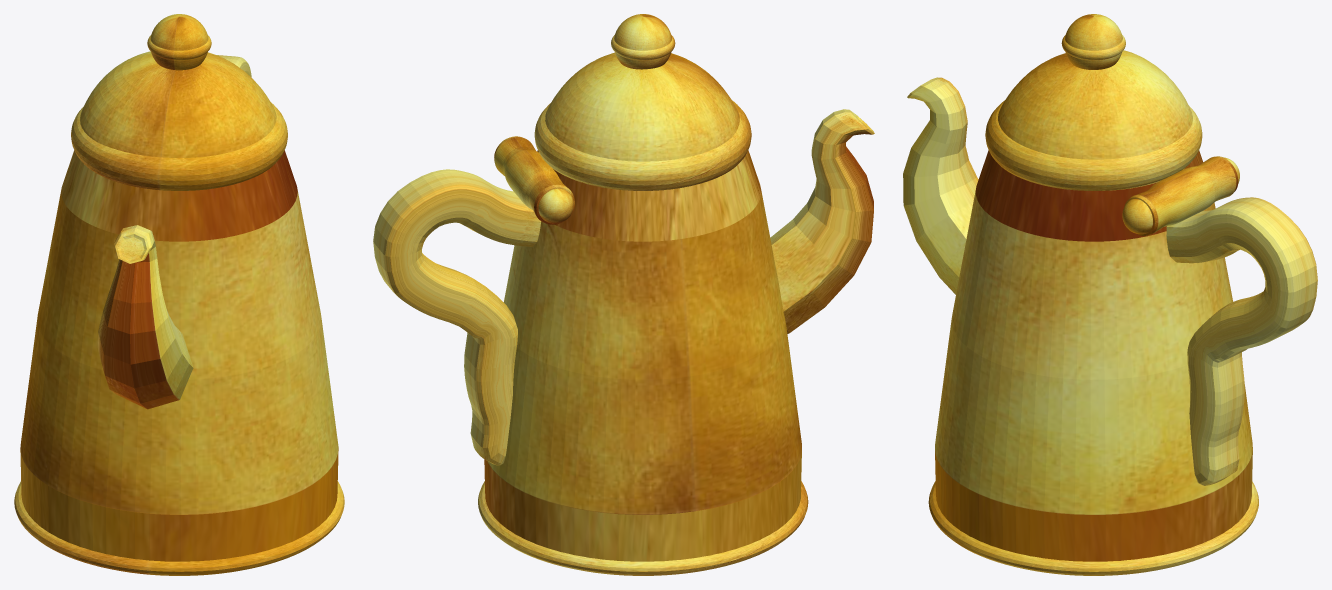
The model's file is Kettle .obj.
3 renders of one model, left to right at view 1: azimuth 30°, elevation 25°; view 2: azimuth 150°, elevation 25°; view 3: azimuth 270°, elevation 25°, orthographic.
Visible parts, largest first — view 1: Cube_Cube.001; view 2: Cube_Cube.001; view 3: Cube_Cube.001.
Part boxes in pixels (x1=…): Cube_Cube.001: x1=14, y1=14, x2=344, y2=575; Cube_Cube.001: x1=373, y1=14, x2=874, y2=575; Cube_Cube.001: x1=903, y1=14, x2=1317, y2=575.
Bounding box in the file's own units: 3.29 × 4.84 × 3.66.
